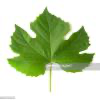grape leaf: (5, 6, 96, 80)
